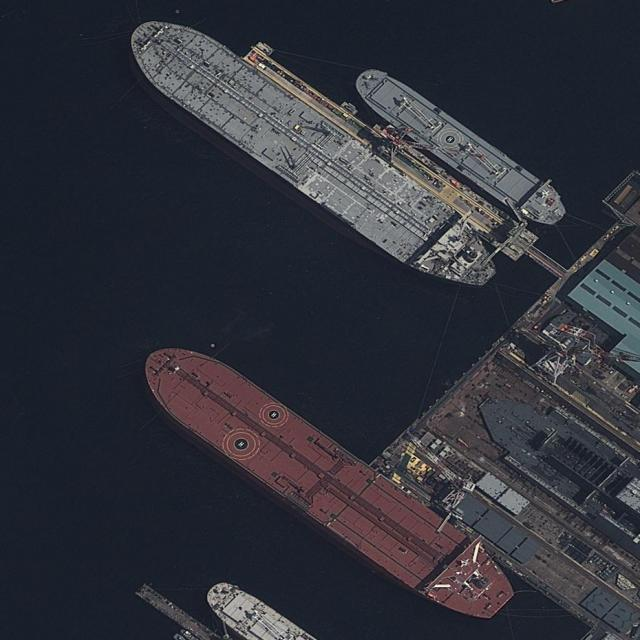Cargo: (345, 58, 575, 235)
Dock: (243, 34, 572, 286)
Oil Tanker: (129, 321, 525, 638), (118, 1, 508, 310)
